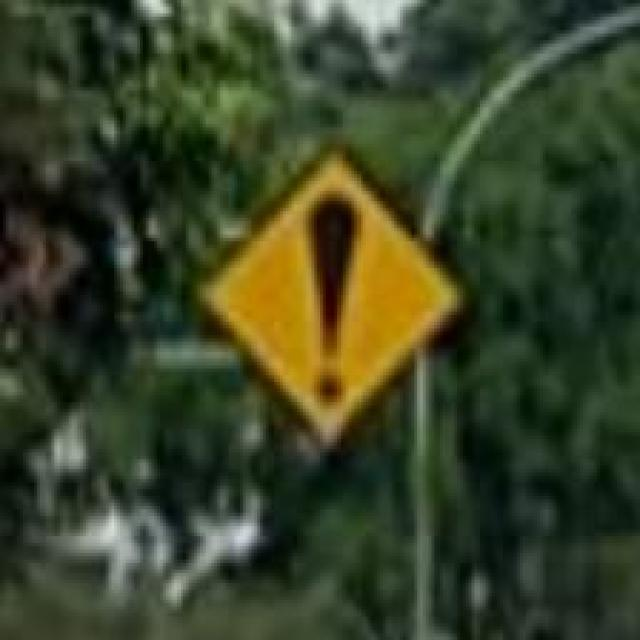traffic sign: (200, 151, 466, 449)
